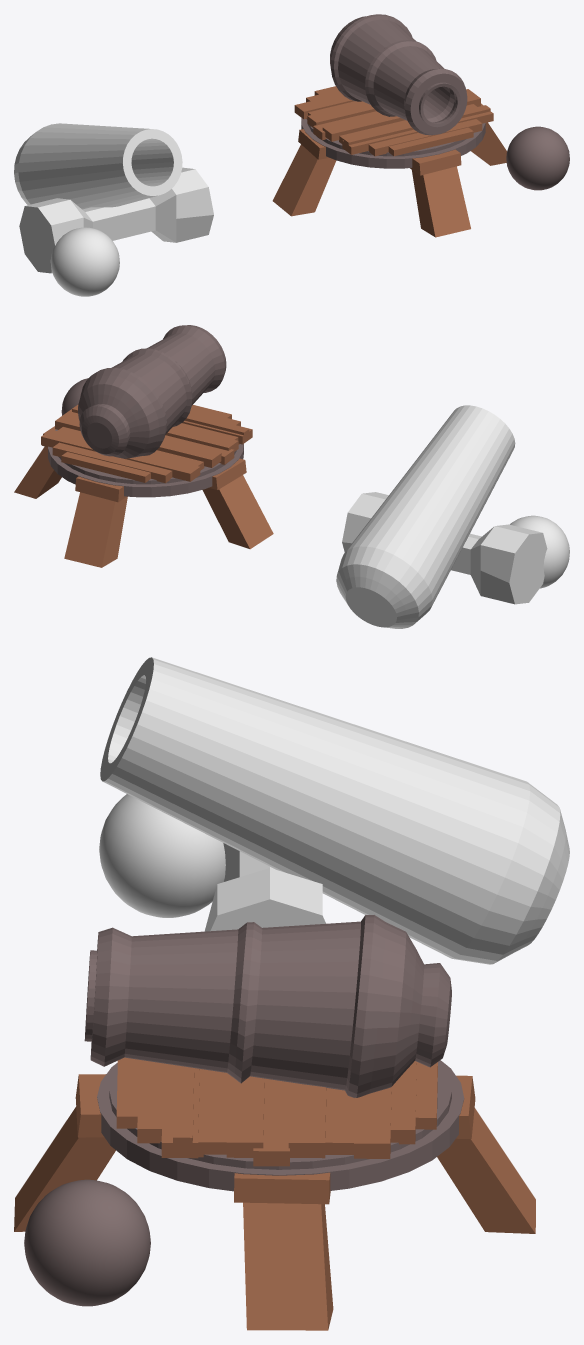
Rendered from Jb Cannon.fbx.
The picture shows the model from 3 angles, top to bottom: view 1: azimuth 30°, elevation 25°; view 2: azimuth 150°, elevation 25°; view 3: azimuth 270°, elevation 25°; orthographic projection. The views are drawn at different scales.
Parts seen in each view (by area): view 1: Cylinder, Cylinder.002, Cube.001, Cube.006, Cube.014, Sphere, Sphere.004, Cube.012, Cylinder.001, Cube.013; view 2: Cylinder, Cylinder.002, Cube.006, Cube.001, Cube.015, Cube.012, Cylinder.001, Sphere, Cube.013, Sphere.004; view 3: Cylinder, Cylinder.002, Cube.006, Cube.013, Sphere.004, Cylinder.001, Sphere, Cube.015, Cube.001, Cube.014.
Boxes of the visible parts, bbox=[...] form: Cylinder: bbox=[14, 123, 182, 209]; Cylinder.002: bbox=[330, 14, 467, 135]; Cube.001: bbox=[19, 167, 213, 273]; Cube.006: bbox=[294, 86, 493, 156]; Cube.014: bbox=[410, 149, 470, 237]; Sphere: bbox=[50, 227, 119, 296]; Sphere.004: bbox=[506, 126, 569, 190]; Cube.012: bbox=[272, 129, 336, 216]; Cylinder.001: bbox=[301, 118, 485, 168]; Cube.013: bbox=[471, 103, 506, 165]; Cylinder: bbox=[336, 405, 515, 628]; Cylinder.002: bbox=[78, 325, 226, 458]; Cube.006: bbox=[41, 404, 252, 483]; Cube.001: bbox=[342, 492, 547, 604]; Cube.015: bbox=[64, 476, 127, 567]; Cube.012: bbox=[202, 458, 273, 549]; Cylinder.001: bbox=[48, 429, 243, 497]; Sphere: bbox=[510, 515, 569, 588]; Cube.013: bbox=[14, 426, 61, 498]; Sphere.004: bbox=[61, 378, 88, 415]; Cylinder: bbox=[100, 657, 569, 964]; Cylinder.002: bbox=[84, 915, 451, 1097]; Cube.006: bbox=[116, 1057, 437, 1166]; Cube.013: bbox=[234, 1172, 333, 1330]; Sphere.004: bbox=[24, 1179, 150, 1306]; Cylinder.001: bbox=[97, 1060, 464, 1191]; Sphere: bbox=[99, 794, 225, 917]; Cube.015: bbox=[437, 1075, 535, 1233]; Cube.001: bbox=[204, 843, 325, 931]; Cube.014: bbox=[14, 1074, 115, 1231].
Bounding box in the file's own units: 1460 × 451 × 722.
